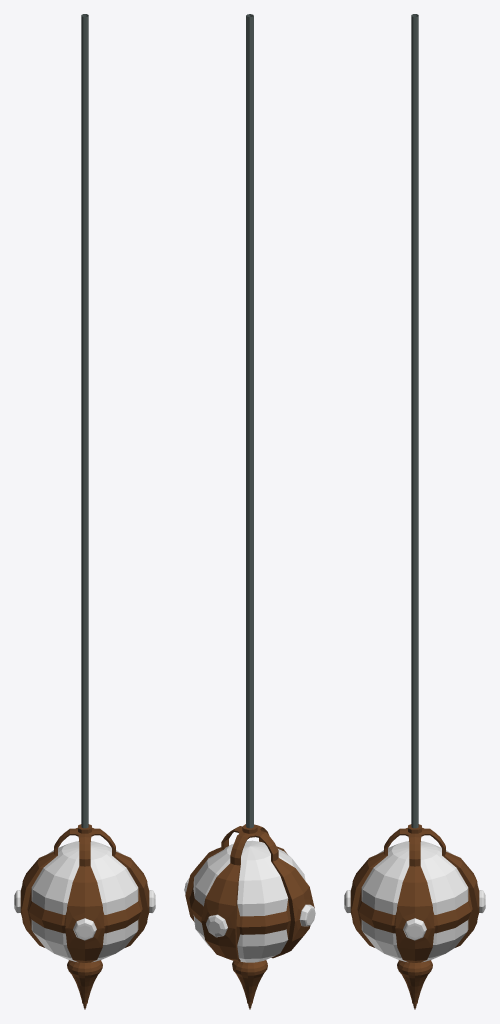
The model's file is LP_P_ChandelierFixed.fbx.
The picture shows the model from 3 angles, left to right: view 1: azimuth 90°, elevation 25°; view 2: azimuth 150°, elevation 25°; view 3: azimuth 270°, elevation 25°; orthographic projection.
Parts seen in each view (by area): view 1: LP_P_Chandelier; view 2: LP_P_Chandelier; view 3: LP_P_Chandelier.
Part boxes in pixels (x1=…): LP_P_Chandelier: x1=14, y1=14, x2=155, y2=1009; LP_P_Chandelier: x1=184, y1=14, x2=315, y2=1009; LP_P_Chandelier: x1=344, y1=14, x2=485, y2=1009.
Bounding box in the file's own units: 116 × 898 × 116.
